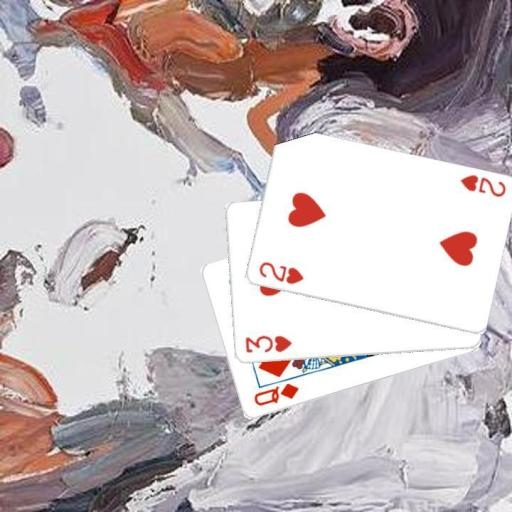2H: (457, 171, 507, 199), (255, 259, 305, 286)
3H: (242, 333, 293, 355)
QD: (250, 381, 300, 408)
